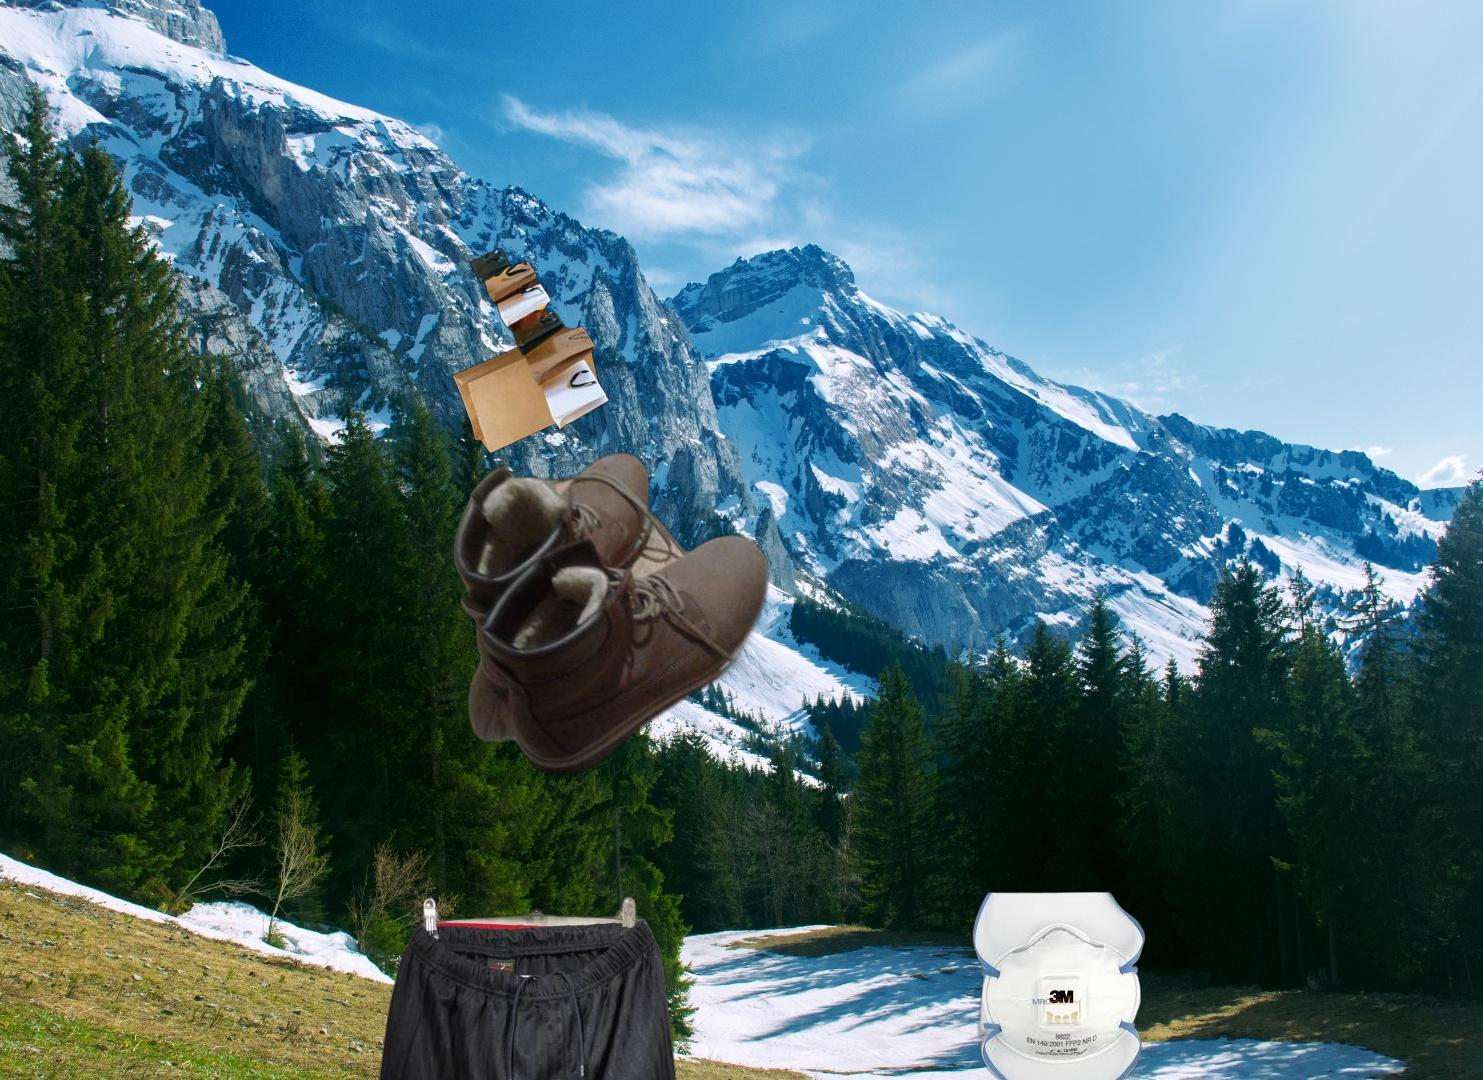clothes: (357, 861, 689, 1080)
paper-bag: (451, 245, 613, 456)
shoes: (449, 446, 797, 782)
trash: (969, 889, 1148, 1080)
